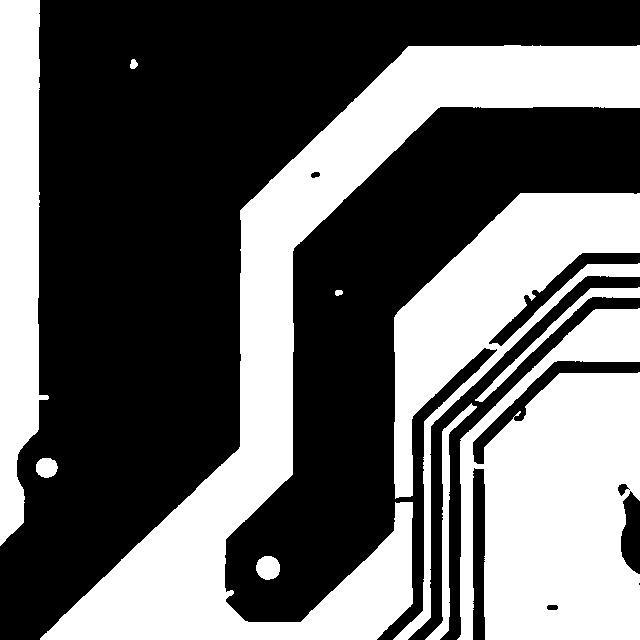copper: (537, 595, 567, 619), (301, 162, 329, 187)
mousebite: (209, 580, 243, 608), (23, 385, 58, 409)
open: (472, 333, 510, 359), (609, 479, 639, 511), (462, 452, 494, 478)
pin-hole: (120, 49, 147, 78), (325, 280, 352, 305)
short: (377, 486, 429, 512), (458, 386, 494, 416)
spur: (514, 280, 548, 314), (504, 397, 535, 430)
